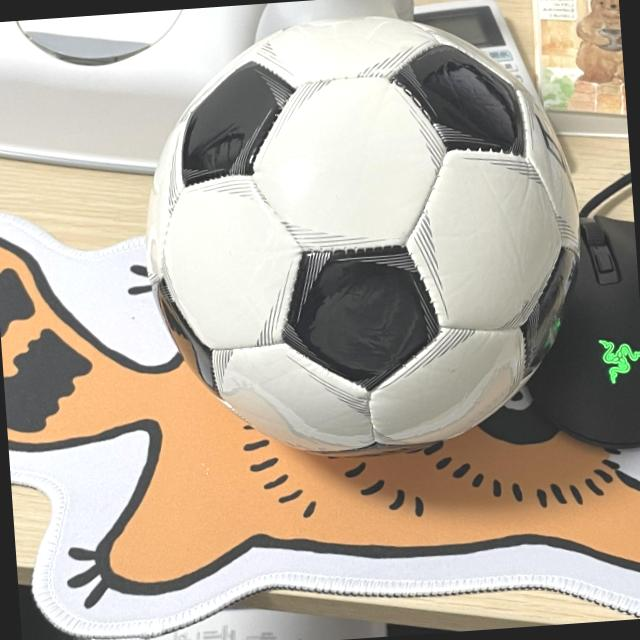Soccer Ball: (128, 6, 591, 468)
